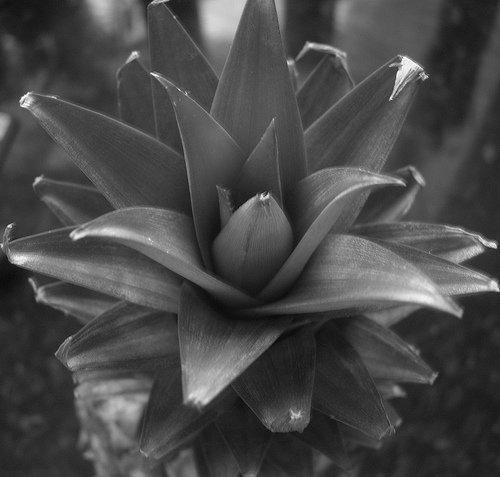pineapple: (3, 0, 498, 475)
